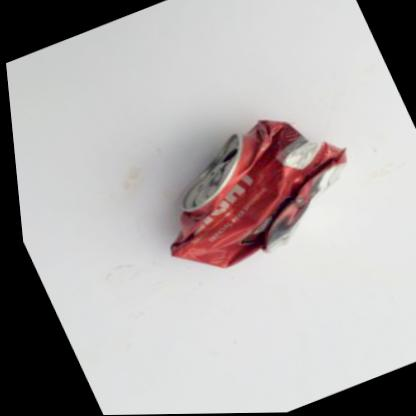Metal: (164, 120, 342, 268)
